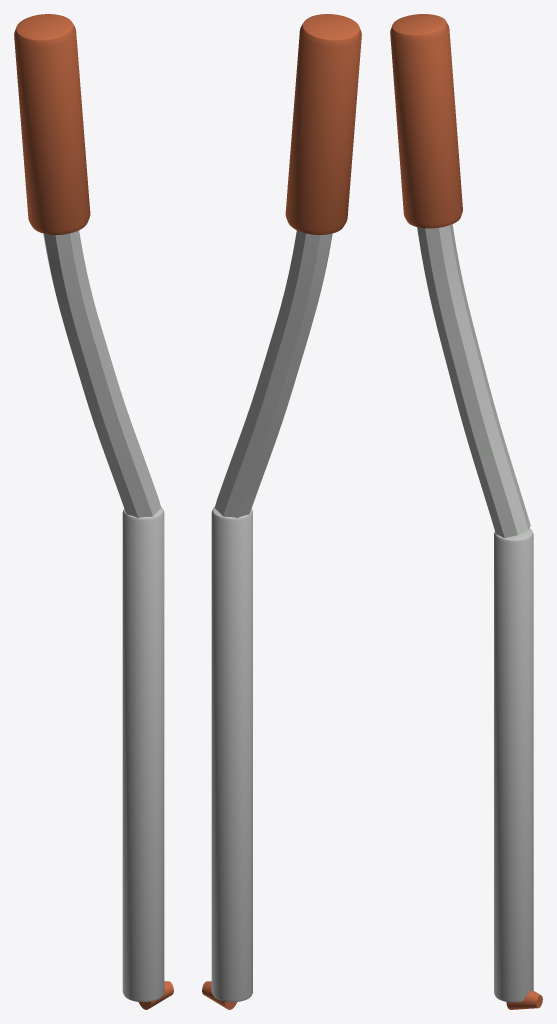
File: manual_spot_welding_gun_upper_arm.glb
The picture shows the model from 3 angles, left to right: view 1: azimuth 30°, elevation 25°; view 2: azimuth 150°, elevation 25°; view 3: azimuth 330°, elevation 25°; orthographic projection. The views are drawn at different scales.
Visible parts, largest first — view 1: manual_spot_welding_gun_upper_arm; view 2: manual_spot_welding_gun_upper_arm; view 3: manual_spot_welding_gun_upper_arm.
Part boxes in pixels (left/top/right/bottom): manual_spot_welding_gun_upper_arm: left=14, top=14, right=173, bottom=1009; manual_spot_welding_gun_upper_arm: left=202, top=14, right=361, bottom=1009; manual_spot_welding_gun_upper_arm: left=390, top=14, right=542, bottom=1009.
Size of the model in its own units: 0.1017 by 0.6448 by 0.0359.
